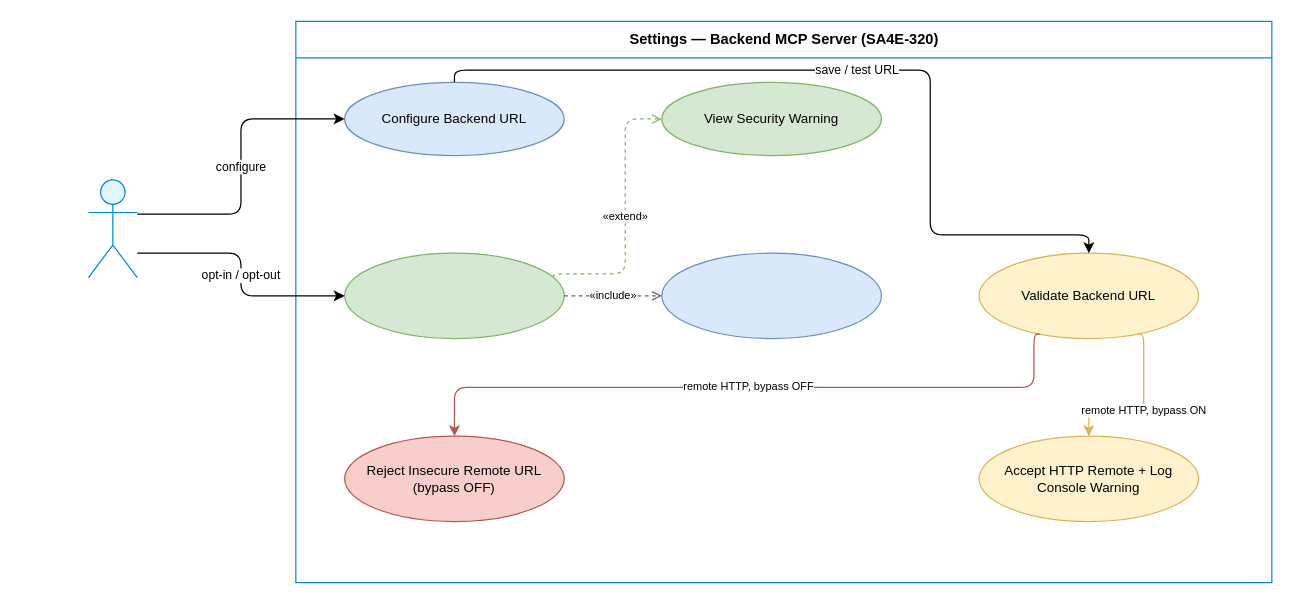
This 1293x604 diagram has some shape labels left out. The shapes that lost their labels are listed below. From the top down, each one's centre as x and y in pixels, then its label:
At (x=112, y=228): "Extension User (Administrator)".
At (x=453, y=295): "Toggle HTTPS Bypass Checkbox (opt-in)".
At (x=771, y=295): "Persist Bypass Setting (workspace)".
